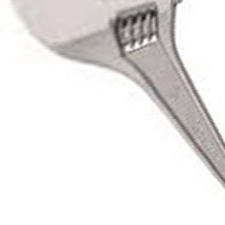Wrench: (8, 1, 225, 190)
